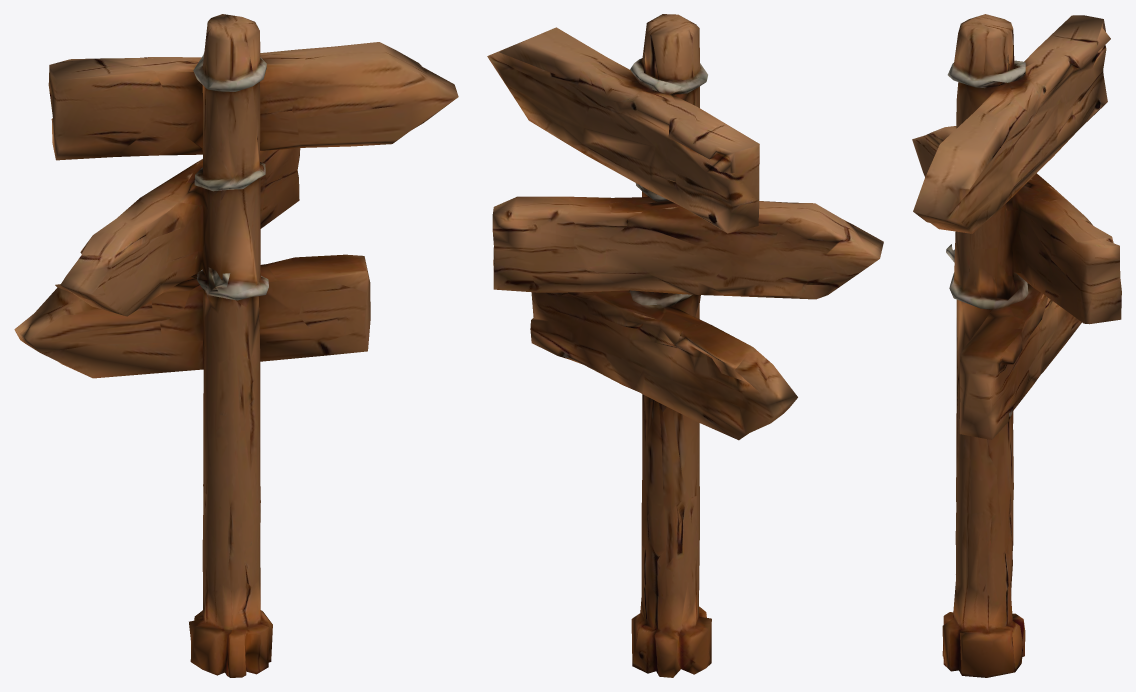
Rendered from env-signpost.glb.
The picture shows the model from 3 angles, left to right: view 1: azimuth 30°, elevation 25°; view 2: azimuth 150°, elevation 25°; view 3: azimuth 270°, elevation 25°; orthographic projection.
Visible parts, largest first — view 1: tripo_node_5e4474aa-2dd2-4c02-bed6-5d2d0aaf6baa; view 2: tripo_node_5e4474aa-2dd2-4c02-bed6-5d2d0aaf6baa; view 3: tripo_node_5e4474aa-2dd2-4c02-bed6-5d2d0aaf6baa.
Boxes of the visible parts, bbox=[...] form: tripo_node_5e4474aa-2dd2-4c02-bed6-5d2d0aaf6baa: bbox=[14, 14, 458, 677]; tripo_node_5e4474aa-2dd2-4c02-bed6-5d2d0aaf6baa: bbox=[487, 14, 883, 677]; tripo_node_5e4474aa-2dd2-4c02-bed6-5d2d0aaf6baa: bbox=[912, 14, 1121, 677].
Bounding box in the file's own units: 0.6441 × 0.9996 × 0.297.
1 material, 1 textured.
